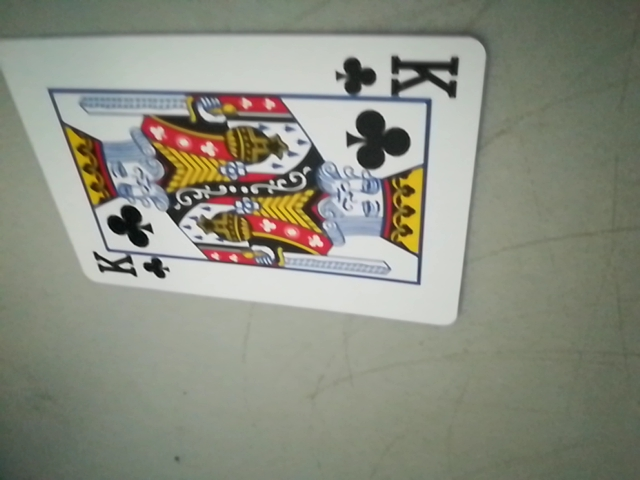mh k: (336, 49, 463, 103), (88, 247, 170, 287)
